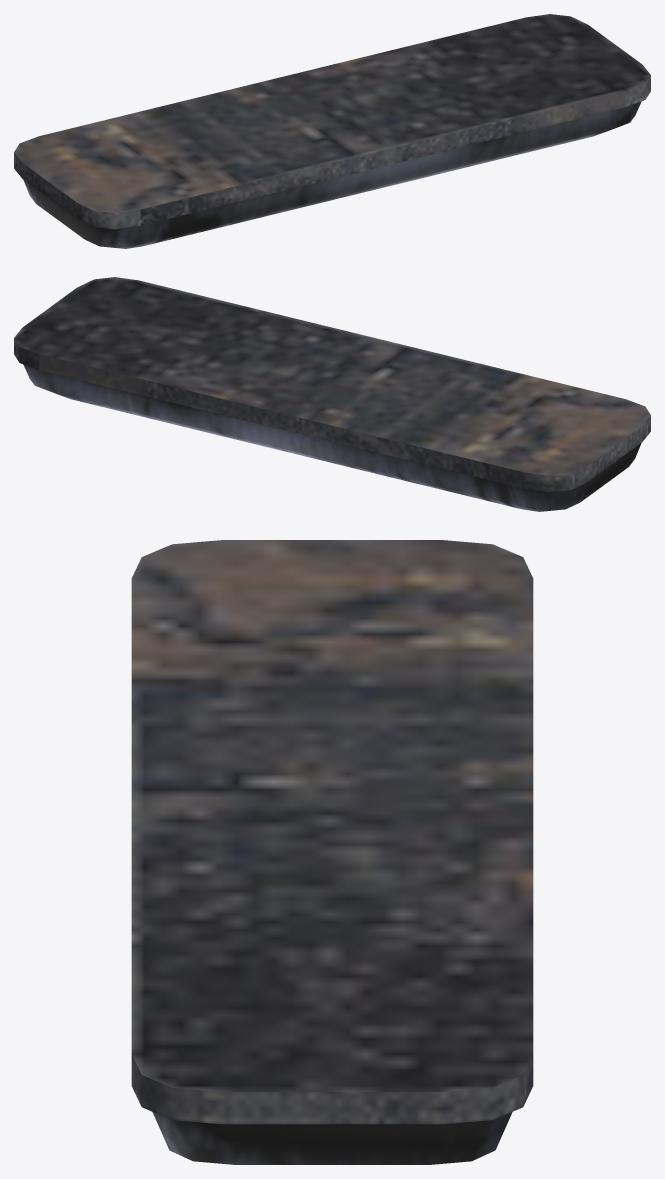
The model's file is Light.FBX.
3 renders of one model, top to bottom at view 1: azimuth 30°, elevation 25°; view 2: azimuth 150°, elevation 25°; view 3: azimuth 270°, elevation 25°, orthographic. The views are drawn at different scales.
Visible parts, largest first — view 1: Light; view 2: Light; view 3: Light.
Part boxes in pixels (left/top/right/bottom): Light: left=14, top=14, right=650, bottom=248; Light: left=14, top=277, right=650, bottom=511; Light: left=131, top=540, right=533, bottom=1164.
Bounding box in the file's own units: 65.47 × 5.69 × 20.14.
2 materials, 2 textured.
